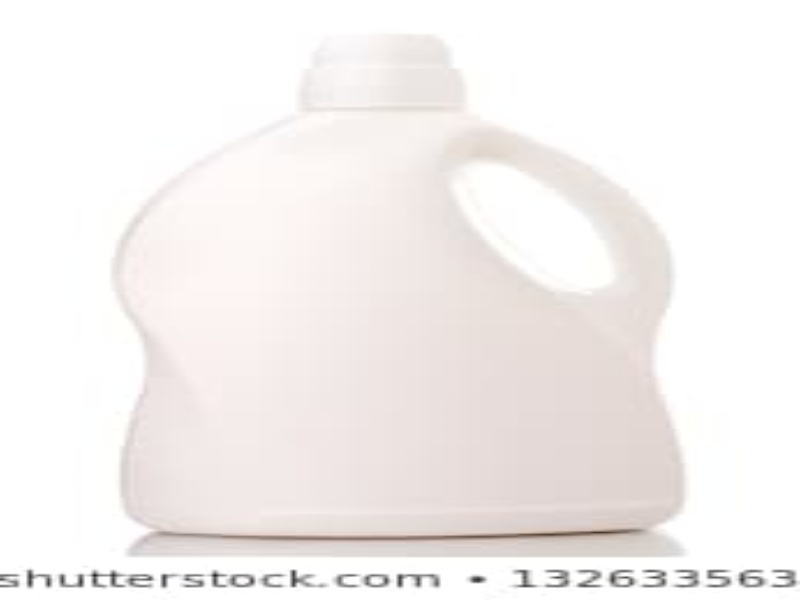detergent-bottle: (108, 30, 687, 538)
